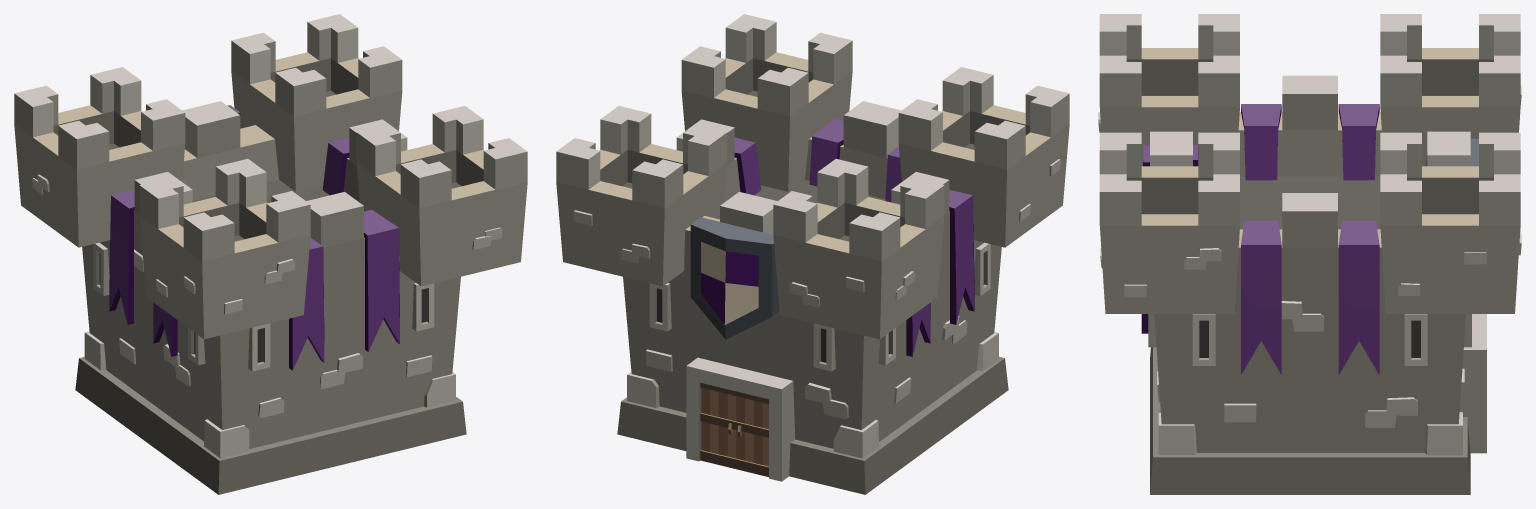
Rendered from Barracks_Lv3.obj.
3 views of the same model, side by side, from view 1: azimuth 30°, elevation 25°; view 2: azimuth 150°, elevation 25°; view 3: azimuth 270°, elevation 25° (orthographic). The views are drawn at different scales.
Visible parts, largest first — view 1: Barracks_Lv3; view 2: Barracks_Lv3; view 3: Barracks_Lv3.
Boxes of the visible parts, box(x1,y1,x2,y2) form: Barracks_Lv3: box(14, 14, 527, 494); Barracks_Lv3: box(556, 14, 1069, 494); Barracks_Lv3: box(1098, 14, 1521, 494).
Bounding box in the file's own units: 8.44 × 7.14 × 8.46.
Materials: 1 (1 with a texture image).
